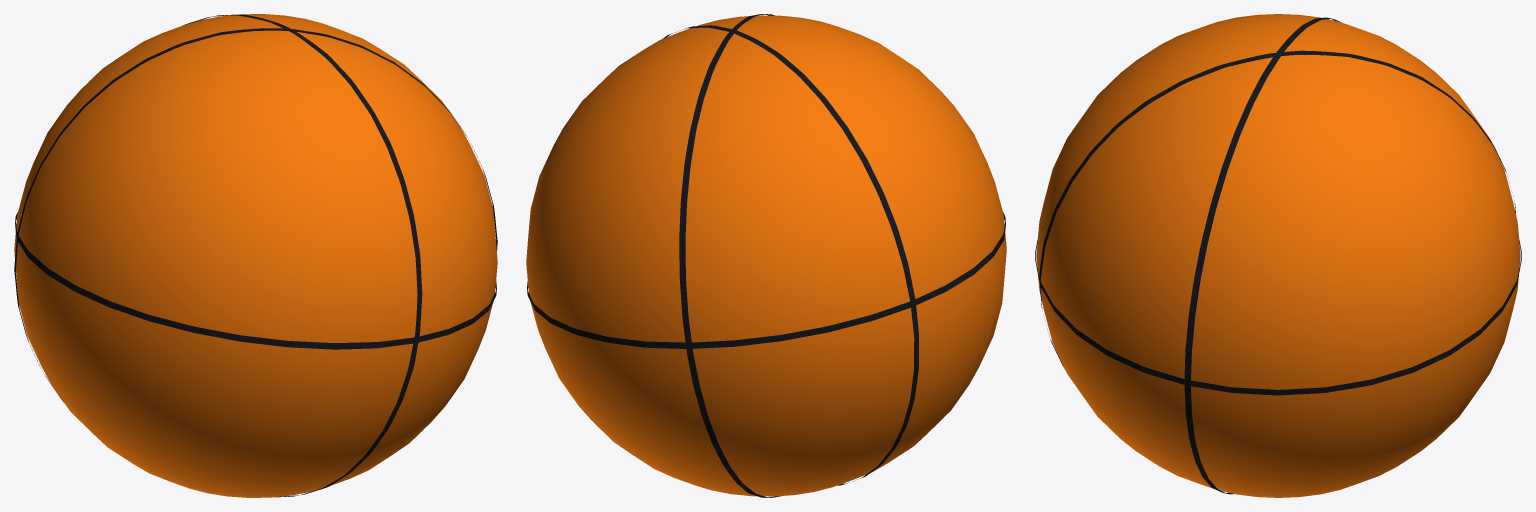
Rendered from 24_Basketball.glb.
3 views of the same model, side by side, from view 1: azimuth 30°, elevation 25°; view 2: azimuth 150°, elevation 25°; view 3: azimuth 270°, elevation 25° (orthographic).
Parts seen in each view (by area): view 1: 24_Basketball_EXPORT; view 2: 24_Basketball_EXPORT; view 3: 24_Basketball_EXPORT.
Part boxes in pixels (x1,y1,x2,y2): 24_Basketball_EXPORT: (14,14,497,497); 24_Basketball_EXPORT: (526,14,1006,497); 24_Basketball_EXPORT: (1035,14,1521,497).
Bounding box in the file's own units: 0.48 × 0.4815 × 0.4826.
